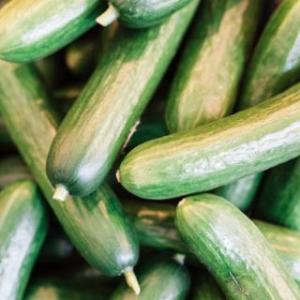cucumber: (1, 56, 142, 278), (46, 0, 200, 196), (118, 79, 300, 202), (172, 190, 300, 300), (163, 0, 262, 134), (234, 1, 300, 115), (0, 1, 118, 64), (0, 176, 54, 298)
